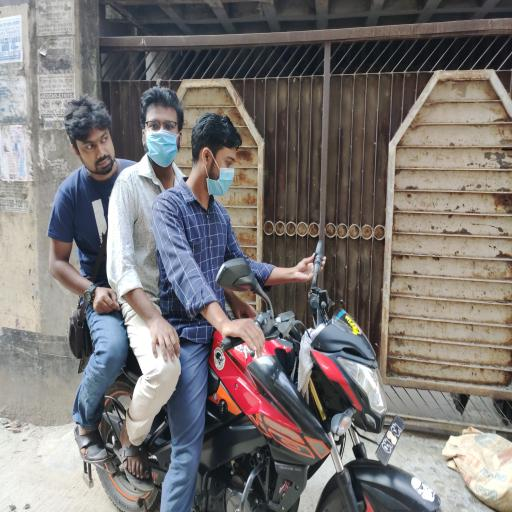overloading: (74, 240, 441, 511)
